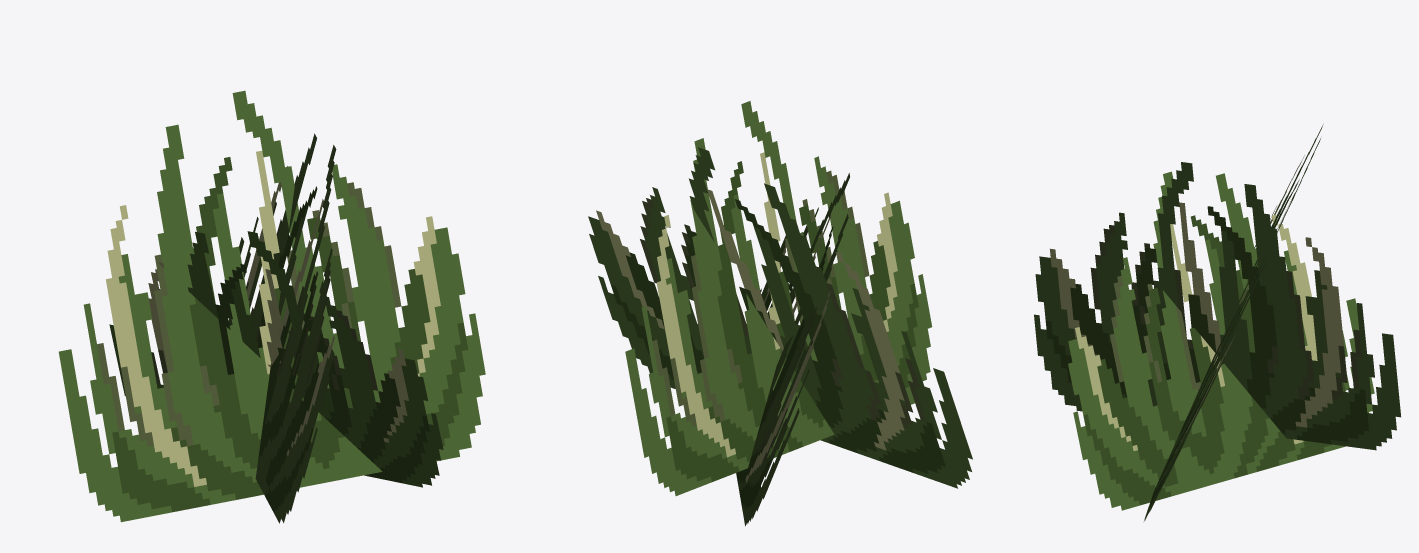
File: grass1.glb
3 views of the same model, side by side, from view 1: azimuth 30°, elevation 25°; view 2: azimuth 150°, elevation 25°; view 3: azimuth 270°, elevation 25° (orthographic). The views are drawn at different scales.
Visible parts, largest first — view 1: Cube; view 2: Cube; view 3: Cube.
Part boxes in pixels (x1,y1,x2,y2): Cube: (58,90,485,523); Cube: (588,101,972,526); Cube: (1034,124,1400,521).
Size of the model in its own units: 2.34 by 2.16 by 2.06.
1 material, 1 textured.
